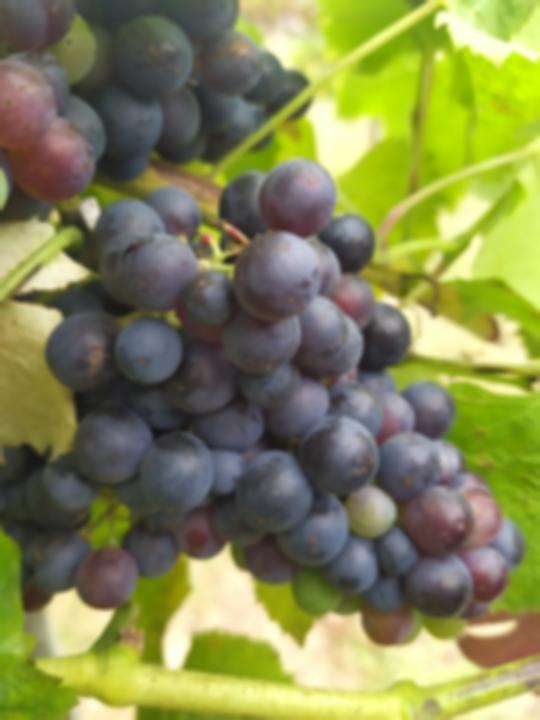grape: (43, 161, 528, 648)
